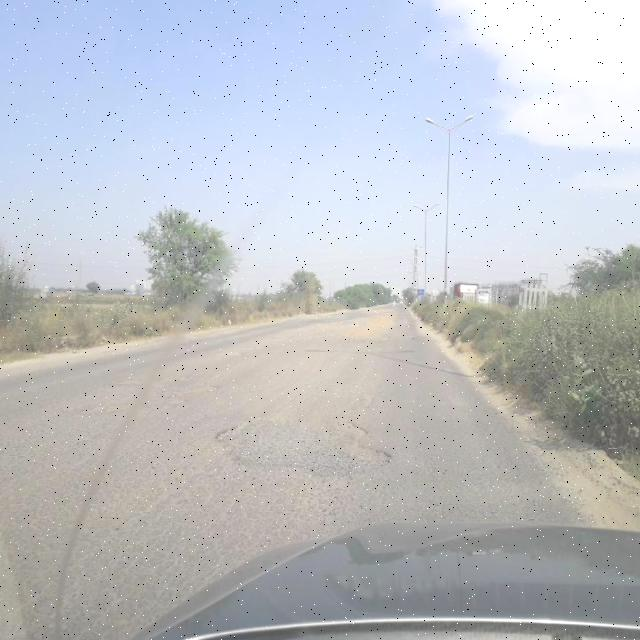D20: (2, 458, 309, 634)
D40: (209, 404, 402, 487), (303, 311, 391, 349), (161, 372, 223, 404), (77, 398, 121, 430), (104, 359, 148, 391), (215, 335, 256, 363)
